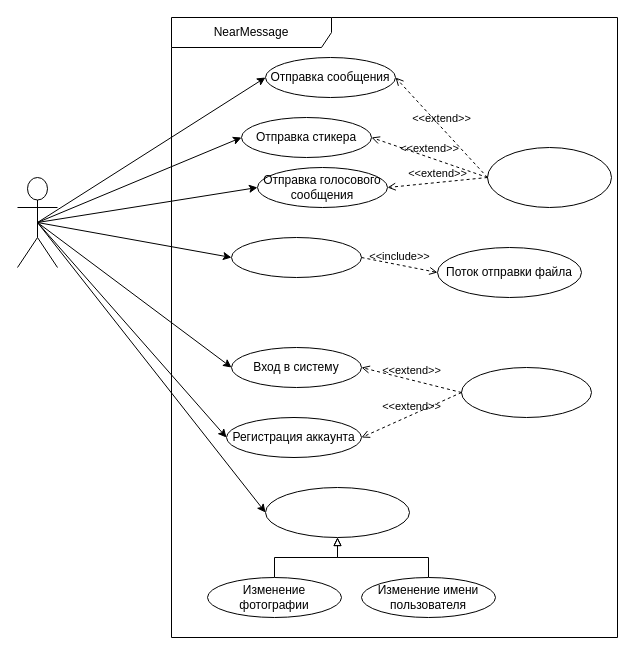
This 635x655 diagram has some shape labels left out. The centre of each missing label's shape, as x and y in pixels:
"Добавление сообщения в очередь отправки" goes at point (549, 177).
"Клиент" goes at point (37, 222).
"Настройка профиля" goes at point (337, 512).
"Отправка файла" goes at point (296, 257).
"Сообщение об ошибке регистрации/входа" goes at point (526, 392).
